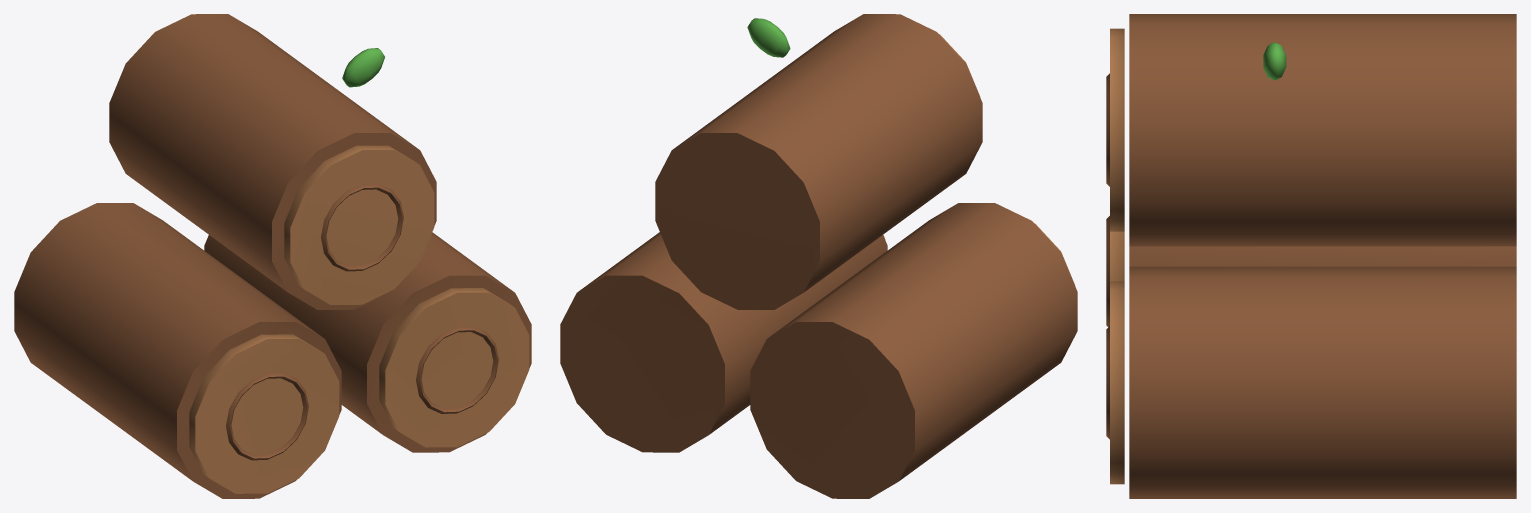
Rendered from icon_wood.glb.
3 renders of one model, left to right at view 1: azimuth 30°, elevation 25°; view 2: azimuth 150°, elevation 25°; view 3: azimuth 270°, elevation 25°, orthographic. The views are drawn at different scales.
Visible parts, largest first — view 1: Wood; view 2: Wood; view 3: Wood.
Part boxes in pixels (x1,y1,x2,y2): Wood: (14, 14, 531, 498); Wood: (560, 14, 1077, 498); Wood: (1106, 14, 1516, 498).
Bounding box in the file's own units: 1.01 × 0.9862 × 0.848.
1 material, 1 textured.
